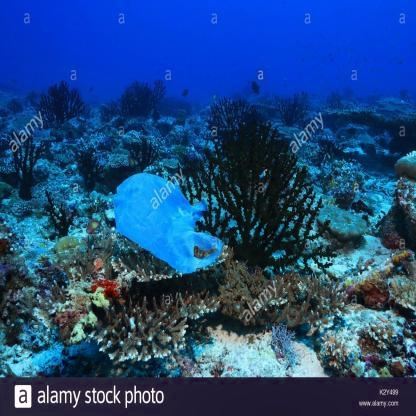pbag: (106, 166, 225, 275)
